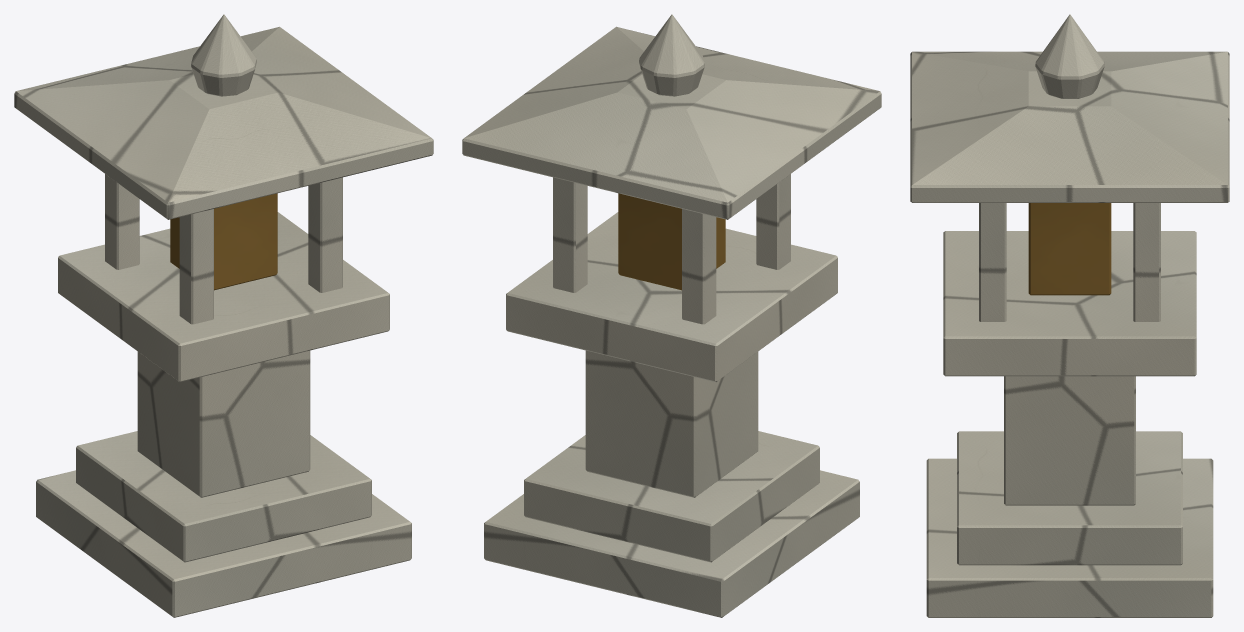
Rendered from a03_stone_lamp.fbx.
3 renders of one model, left to right at view 1: azimuth 30°, elevation 25°; view 2: azimuth 150°, elevation 25°; view 3: azimuth 270°, elevation 25°, orthographic. The views are drawn at different scales.
Visible parts, largest first — view 1: a03_stone_lamp.003; view 2: a03_stone_lamp.003; view 3: a03_stone_lamp.003.
Boxes of the visible parts, x1,y1,x2,y2 form: a03_stone_lamp.003: (14,14,433,617); a03_stone_lamp.003: (462,14,881,617); a03_stone_lamp.003: (910,14,1229,617).
Size of the model in its own units: 11600 by 11600 by 21800.
